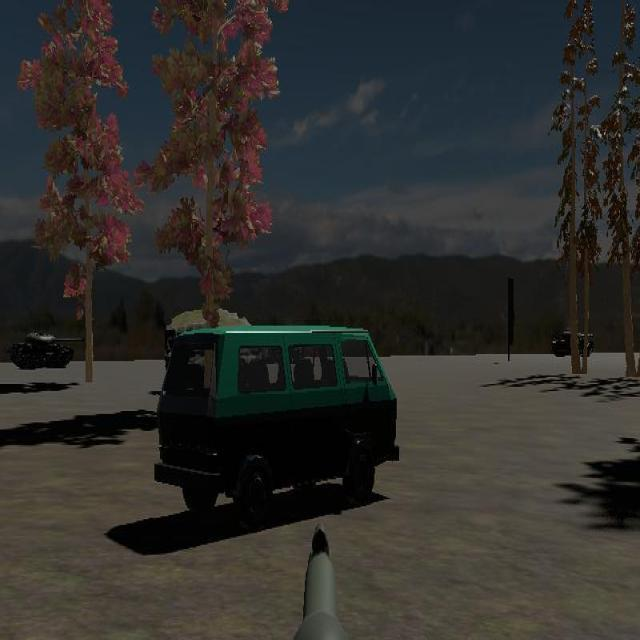Tank: (8, 328, 88, 370)
car: (154, 324, 399, 525)
